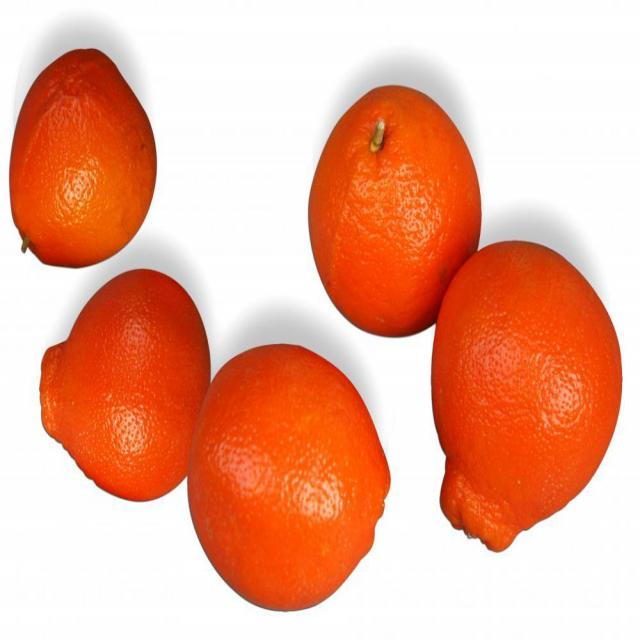10_tangerine: (425, 226, 629, 560), (184, 327, 394, 615), (306, 80, 489, 360), (39, 267, 216, 514), (7, 43, 164, 266)
